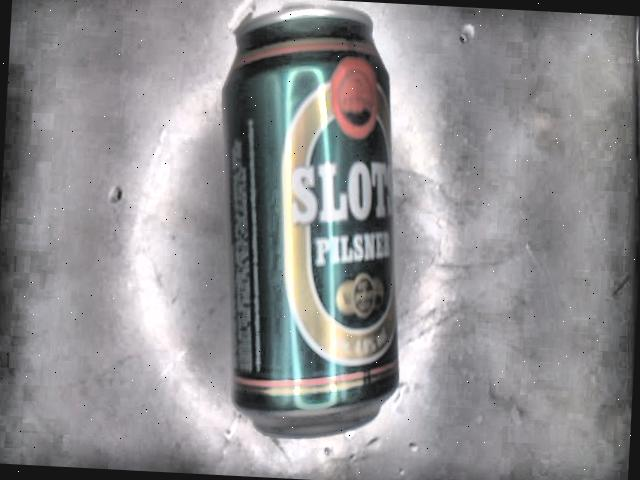Bottles: (223, 3, 400, 441)
